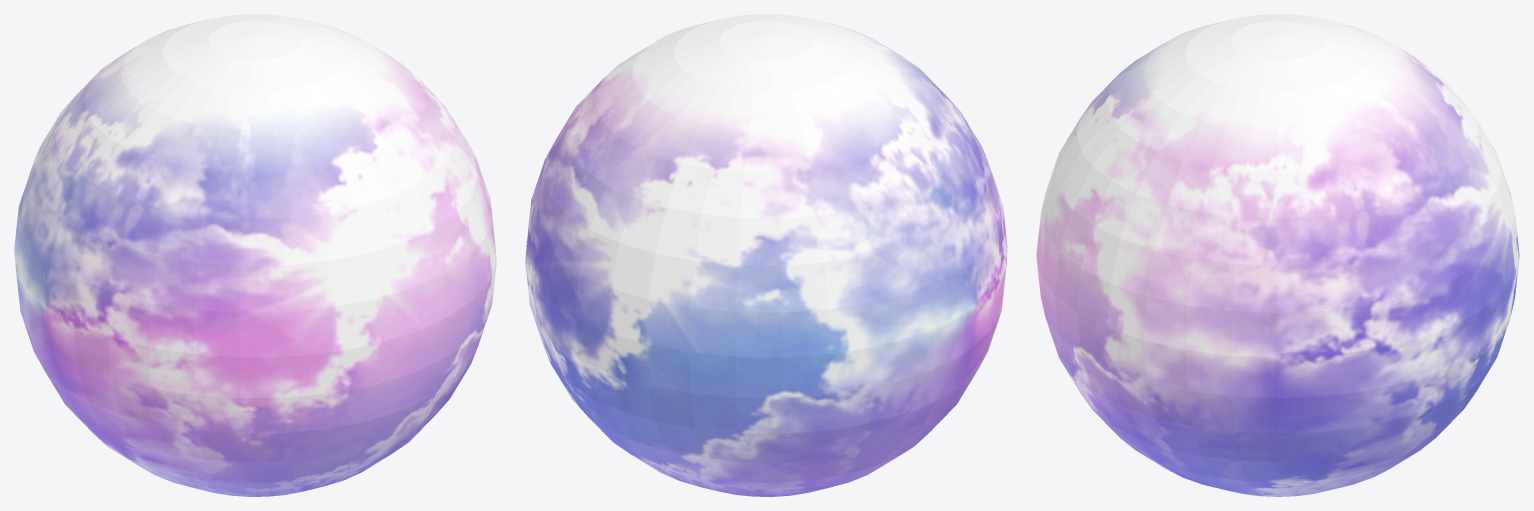
File: index.gltf
The picture shows the model from 3 angles, left to right: view 1: azimuth 30°, elevation 25°; view 2: azimuth 150°, elevation 25°; view 3: azimuth 270°, elevation 25°; orthographic projection.
Visible parts, largest first — view 1: sky; view 2: sky; view 3: sky.
Boxes of the visible parts, left/top/right/bottom form: sky: left=14, top=14, right=496, bottom=496; sky: left=525, top=14, right=1007, bottom=496; sky: left=1036, top=14, right=1519, bottom=496.
Size of the model in its own units: 282 by 282 by 282.
Materials: 16 (5 with a texture image).
